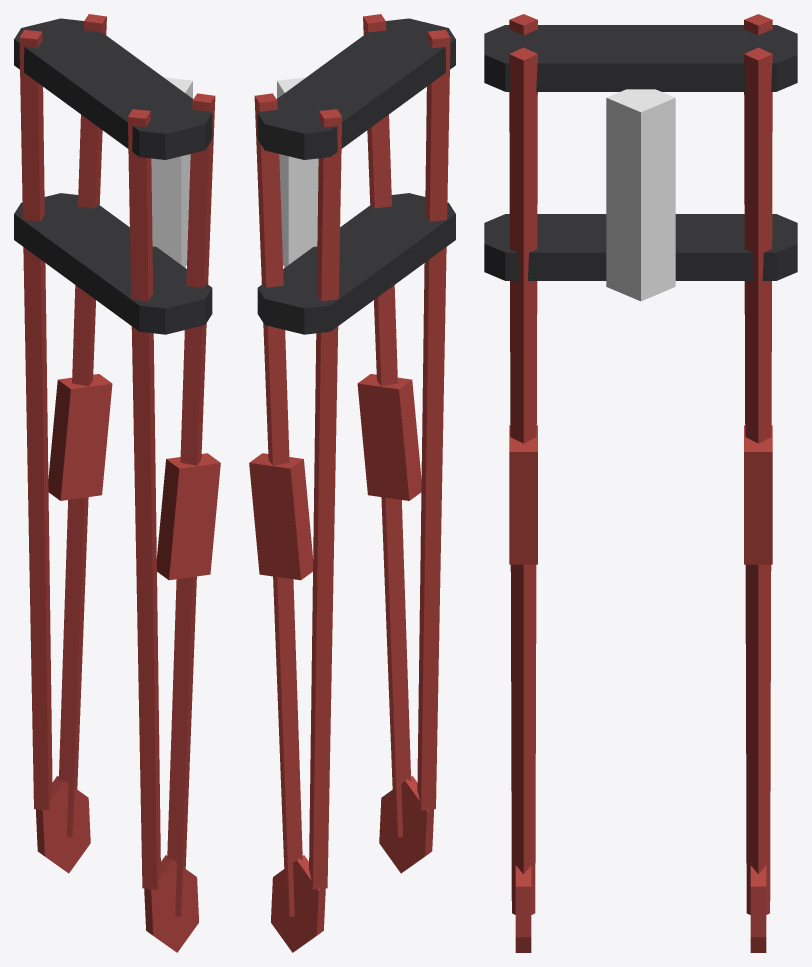
The model's file is girder_vintage_upper_lod2.glb.
The picture shows the model from 3 angles, left to right: view 1: azimuth 30°, elevation 25°; view 2: azimuth 150°, elevation 25°; view 3: azimuth 270°, elevation 25°; orthographic projection. The views are drawn at different scales.
Visible parts, largest first — view 1: girder_vintage_upper_lod2; view 2: girder_vintage_upper_lod2; view 3: girder_vintage_upper_lod2.
Boxes of the visible parts, bbox=[...] form: girder_vintage_upper_lod2: bbox=[14, 14, 220, 952]; girder_vintage_upper_lod2: bbox=[249, 14, 455, 952]; girder_vintage_upper_lod2: bbox=[484, 14, 797, 952].
Bounding box in the file's own units: 0.1145 × 0.7744 × 0.24.
